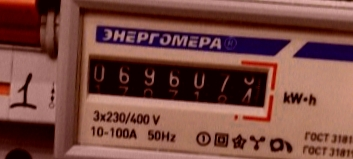0: (191, 68, 208, 91), (91, 62, 107, 84)
4: (240, 85, 255, 108)
6: (116, 63, 132, 85), (166, 68, 182, 89)
7: (216, 72, 233, 95)
9: (141, 65, 156, 88)
screen: (73, 43, 283, 121)
